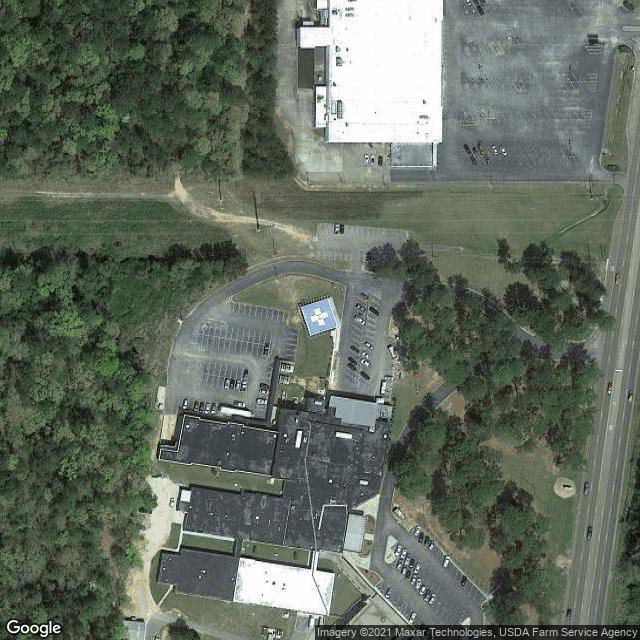Helipad: (294, 295, 341, 336)
